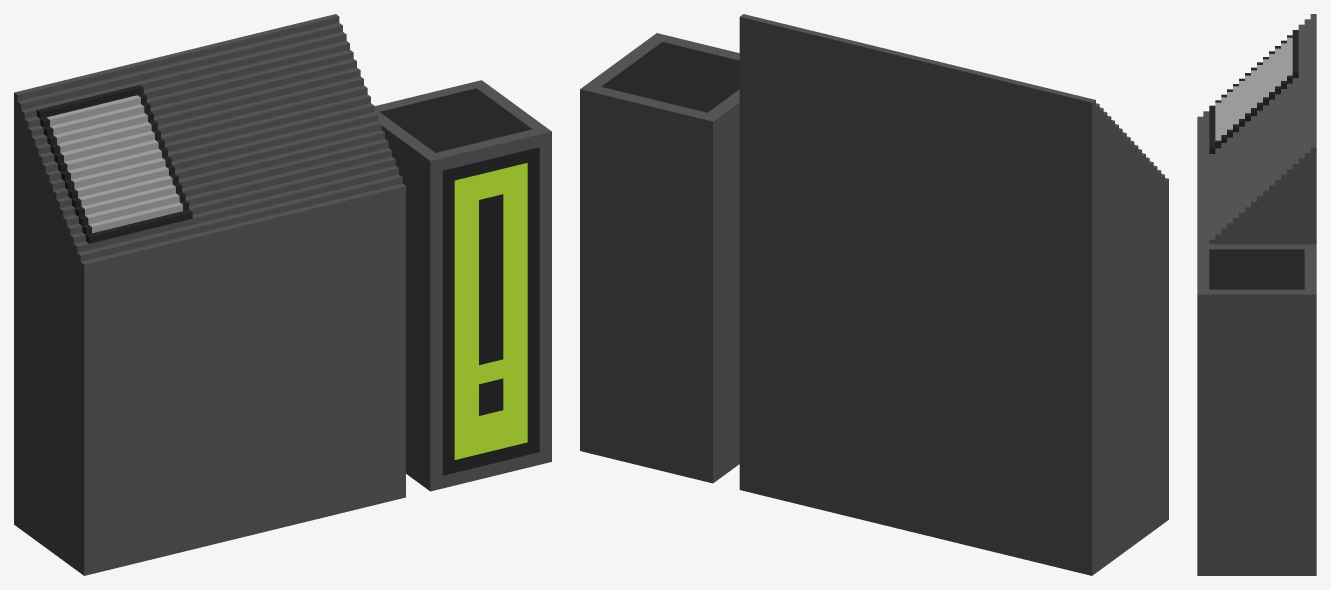
File: tnt spawner handler.obj
3 renders of one model, left to right at view 1: azimuth 30°, elevation 25°; view 2: azimuth 150°, elevation 25°; view 3: azimuth 270°, elevation 25°, orthographic. The views are drawn at different scales.
Bounding box in the file's own units: 7.7 × 6.8 × 2.
1 material, 1 textured.
